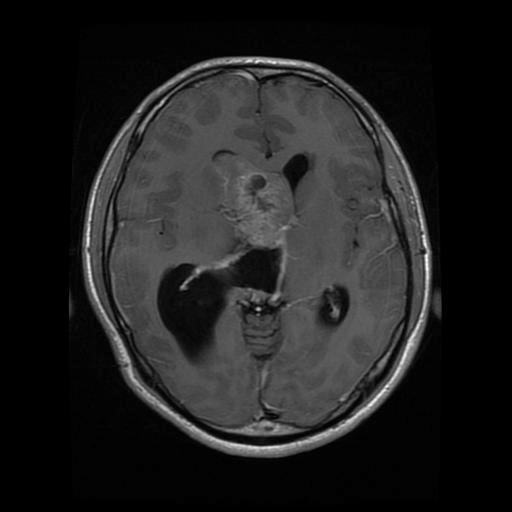Tumour-Glioma: (216, 152, 310, 250)
